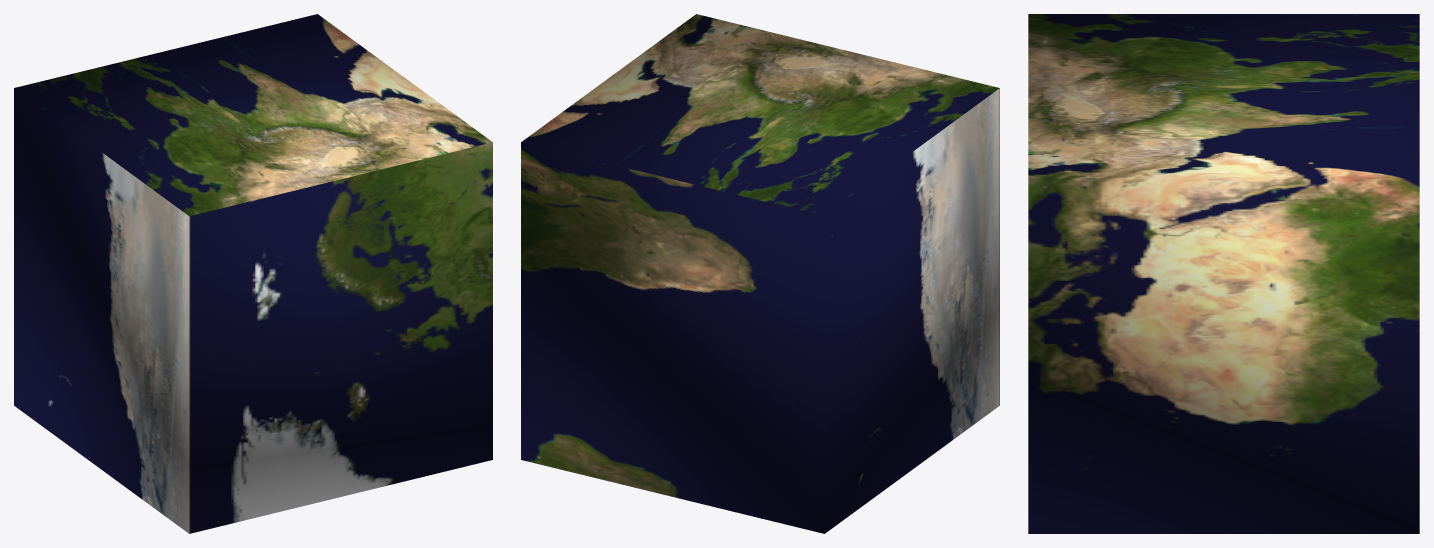
File: Earth-Moon System (Geometry Nodes).glb
The picture shows the model from 3 angles, left to right: view 1: azimuth 30°, elevation 25°; view 2: azimuth 150°, elevation 25°; view 3: azimuth 270°, elevation 25°; orthographic projection. The views are drawn at different scales.
Visible parts, largest first — view 1: Earth; view 2: Earth; view 3: Earth.
Boxes of the visible parts, left/top/right/bottom form: Earth: left=14, top=14, right=492, bottom=533; Earth: left=521, top=14, right=999, bottom=533; Earth: left=1028, top=14, right=1419, bottom=533.
Size of the model in its own units: 14.9 by 14.9 by 14.9.
Materials: 10 (3 with a texture image).
